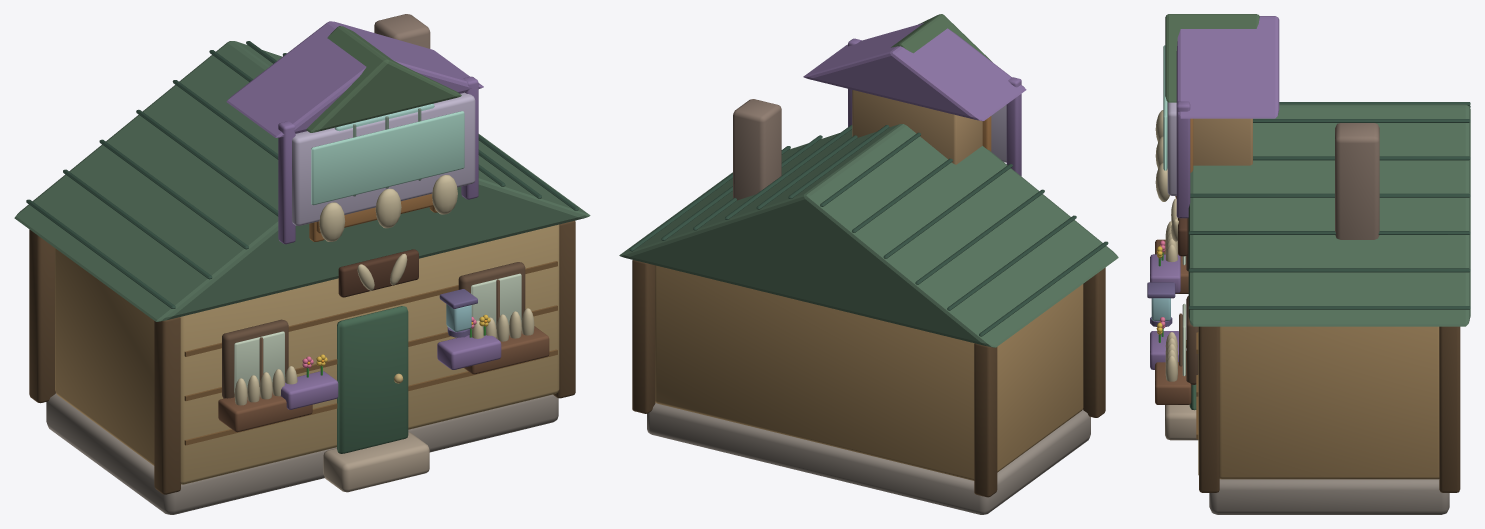
Rendered from res_rook3.glb.
3 renders of one model, left to right at view 1: azimuth 30°, elevation 25°; view 2: azimuth 150°, elevation 25°; view 3: azimuth 270°, elevation 25°, orthographic. The views are drawn at different scales.
Parts seen in each view (by area): view 1: base, roof, crystal, walls, flower, frame, fang; view 2: base, roof, frame, walls; view 3: base, roof, flower, frame, walls, fang, crystal.
Part boxes in pixels (<box>): base: <box>14,14,590,514</box>; roof: <box>226,21,483,137</box>; crystal: <box>311,111,464,205</box>; walls: <box>292,92,475,225</box>; flower: <box>281,314,501,409</box>; frame: <box>278,76,478,244</box>; fang: <box>319,175,457,241</box>; base: <box>619,14,1118,514</box>; roof: <box>803,23,1026,121</box>; frame: <box>848,38,1021,176</box>; walls: <box>991,105,1006,162</box>; base: <box>1147,14,1470,514</box>; roof: <box>1176,16,1279,118</box>; flower: <box>1150,240,1180,369</box>; frame: <box>1176,101,1190,218</box>; walls: <box>1167,102,1176,195</box>; fang: <box>1155,110,1169,201</box>; crystal: <box>1163,45,1167,170</box>.
Bounding box in the file's own units: 3.47 × 3.26 × 2.32.
